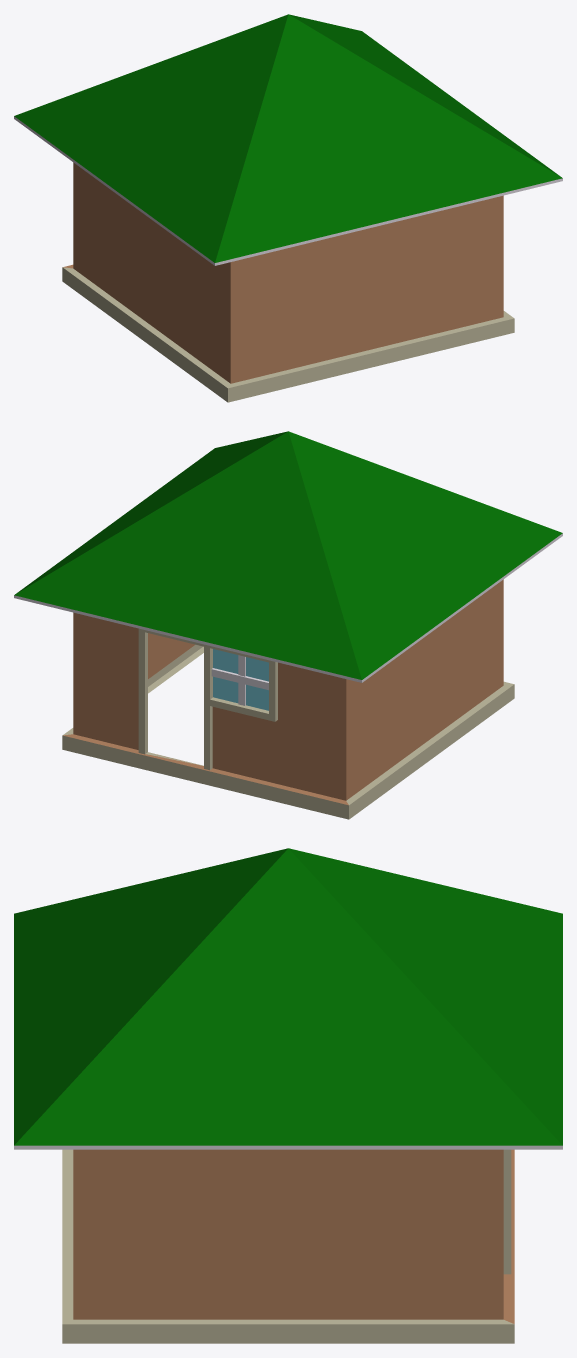
The model's file is hut.fbx.
3 renders of one model, top to bottom at view 1: azimuth 30°, elevation 25°; view 2: azimuth 150°, elevation 25°; view 3: azimuth 270°, elevation 25°, orthographic. The views are drawn at different scales.
Parts seen in each view (by area): view 1: building_001; view 2: building_001; view 3: building_001.
Boxes of the visible parts, <box> form: building_001: <box>14,14,562,402</box>; building_001: <box>14,431,562,819</box>; building_001: <box>14,848,562,1343</box>.
Size of the model in its own units: 510 by 410 by 510.
